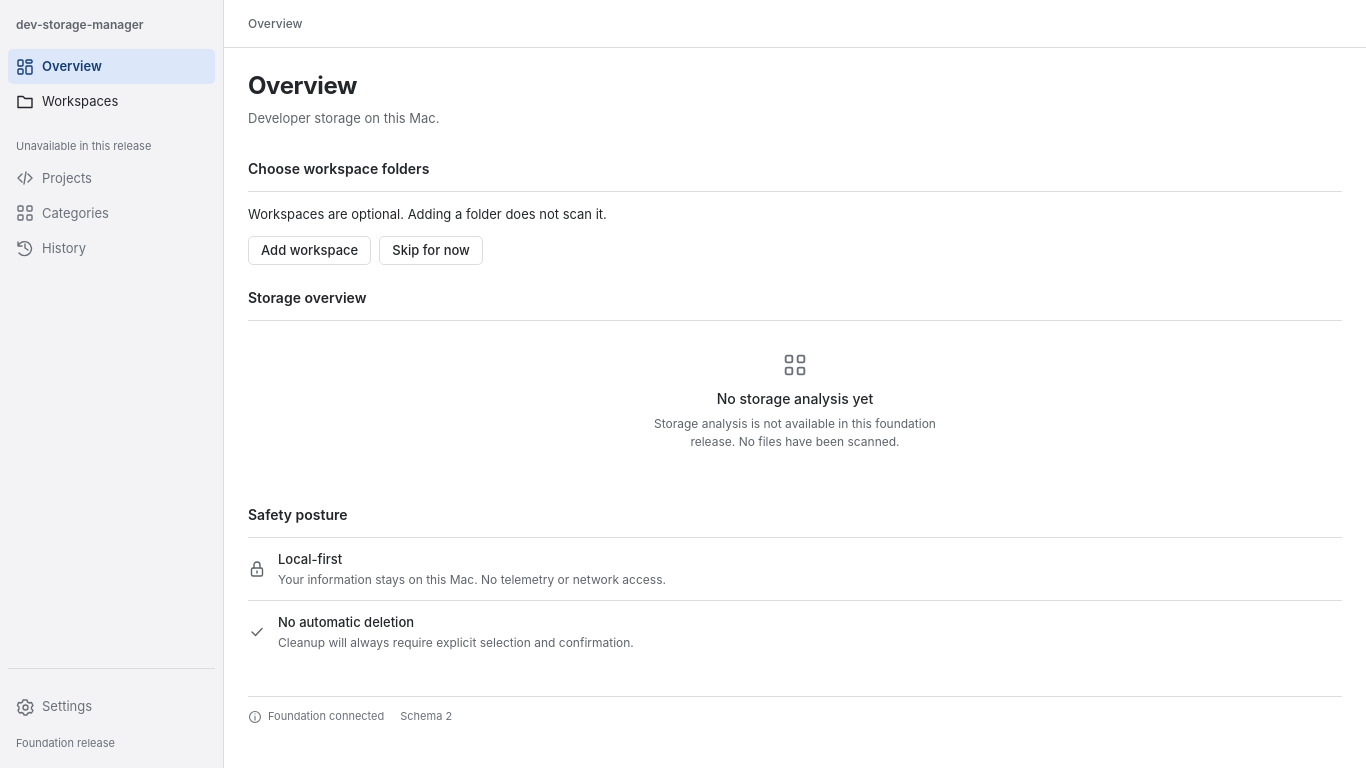
Test case: App › keeps setup reload recovery inside its error without re-enabling uncertain mutations
Click the button "Skip for now": [431, 251] box [379,236,483,265]
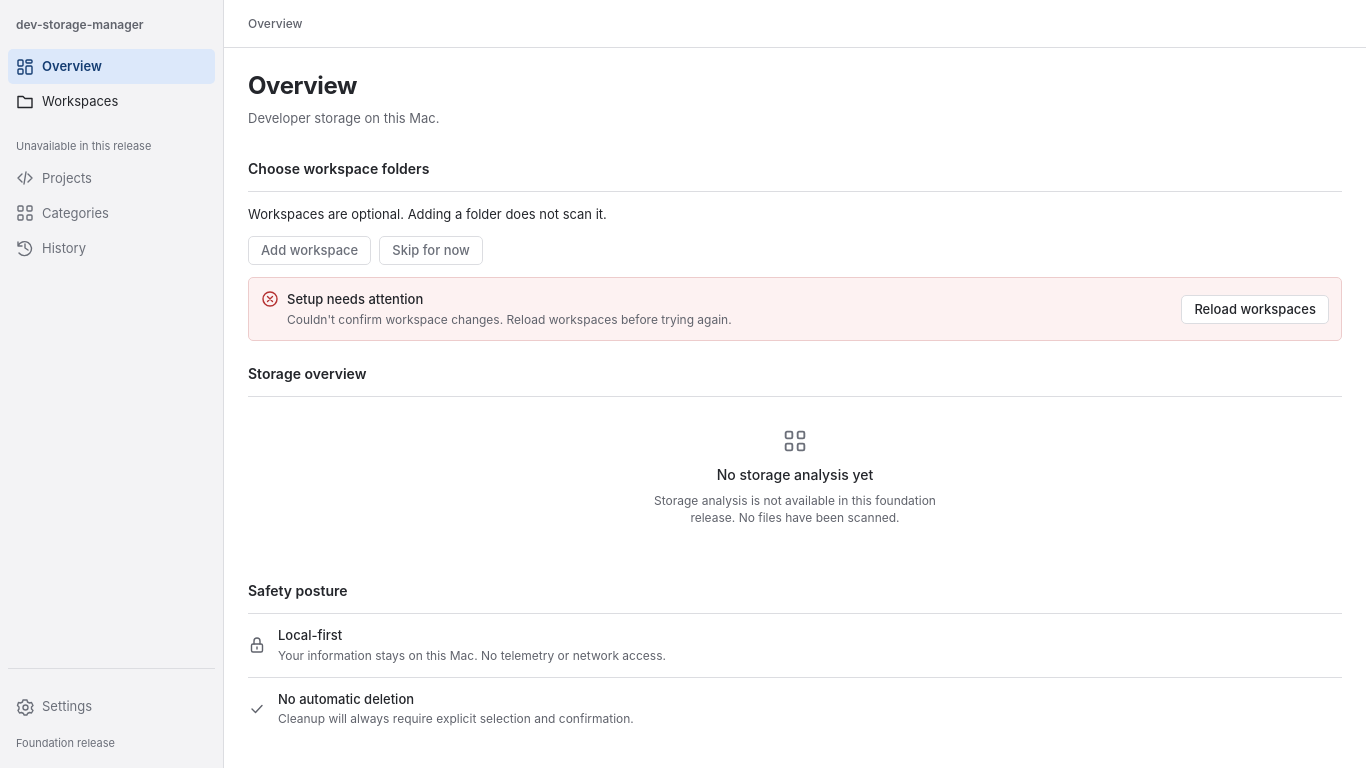
Now the message shows "Setup needs attention", box [287,291,423,307]
Now the button "Reload workspaces" is enabled
Now the button "Add workspace" is disabled, box [248,236,371,265]
Click the button "Reload workspaces": [1255, 309] box [1181,295,1329,324]
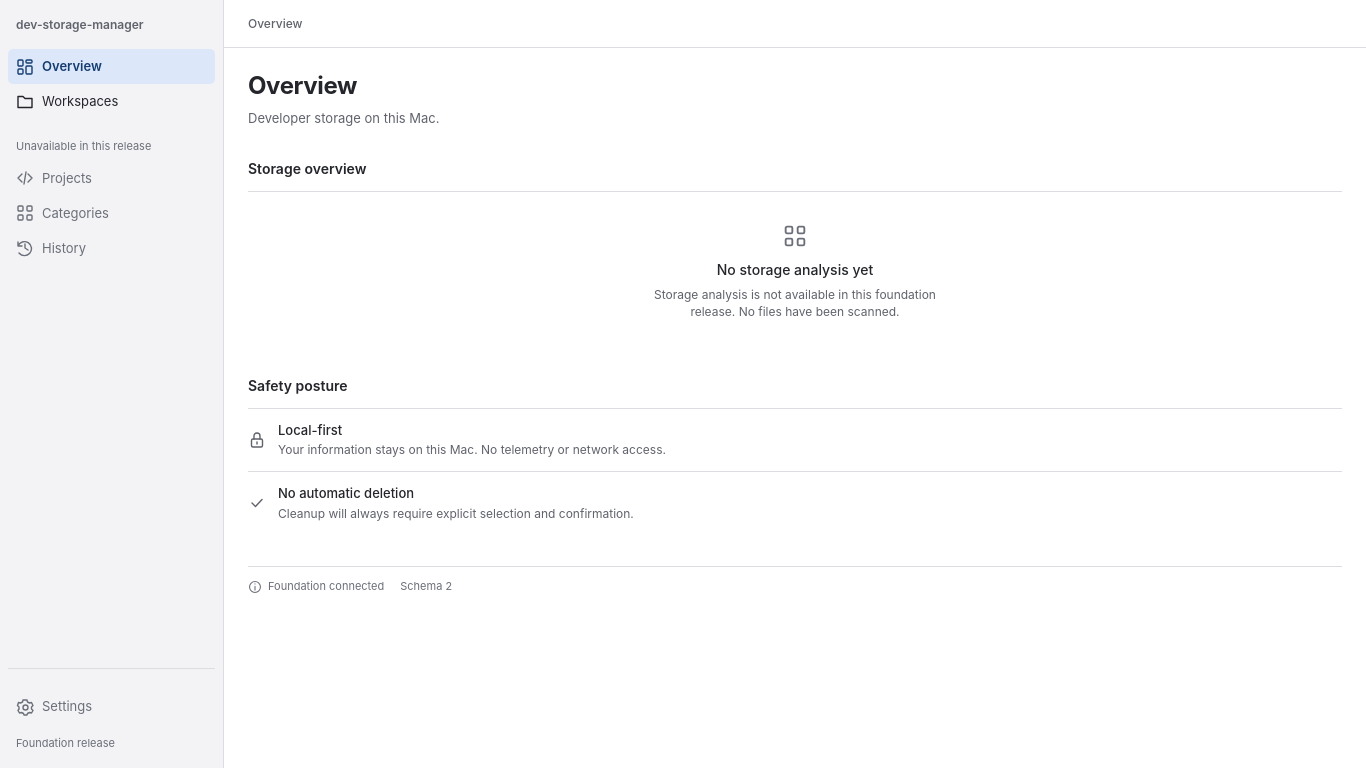
Expected: the heading "Overview" is shown, [248,71,357,100]
Now the heading "Choose workspace folders" is gone
